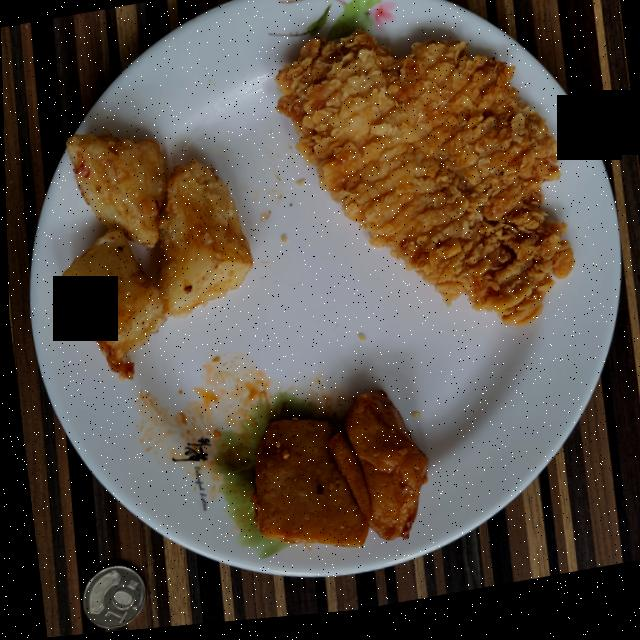coin: (77, 567, 141, 630)
creamy tofu: (246, 397, 424, 553)
fried chicken cutlet: (274, 37, 571, 335)
fried potato: (59, 135, 250, 380)
